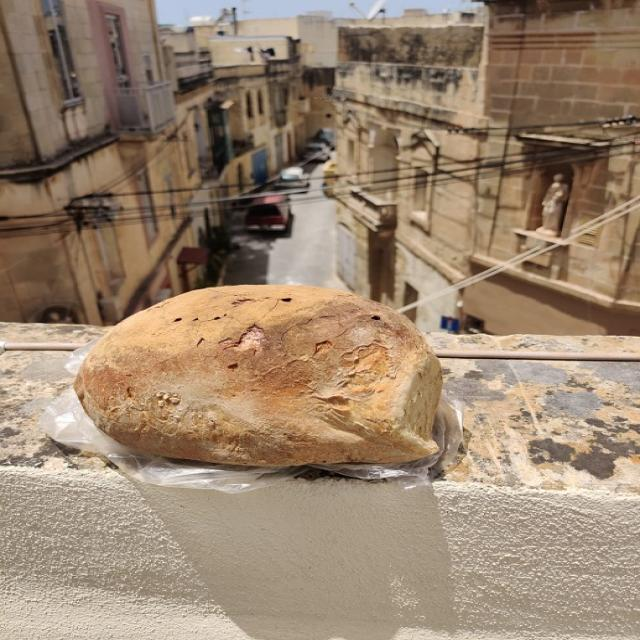Maltese-Bread: (76, 286, 442, 467)
